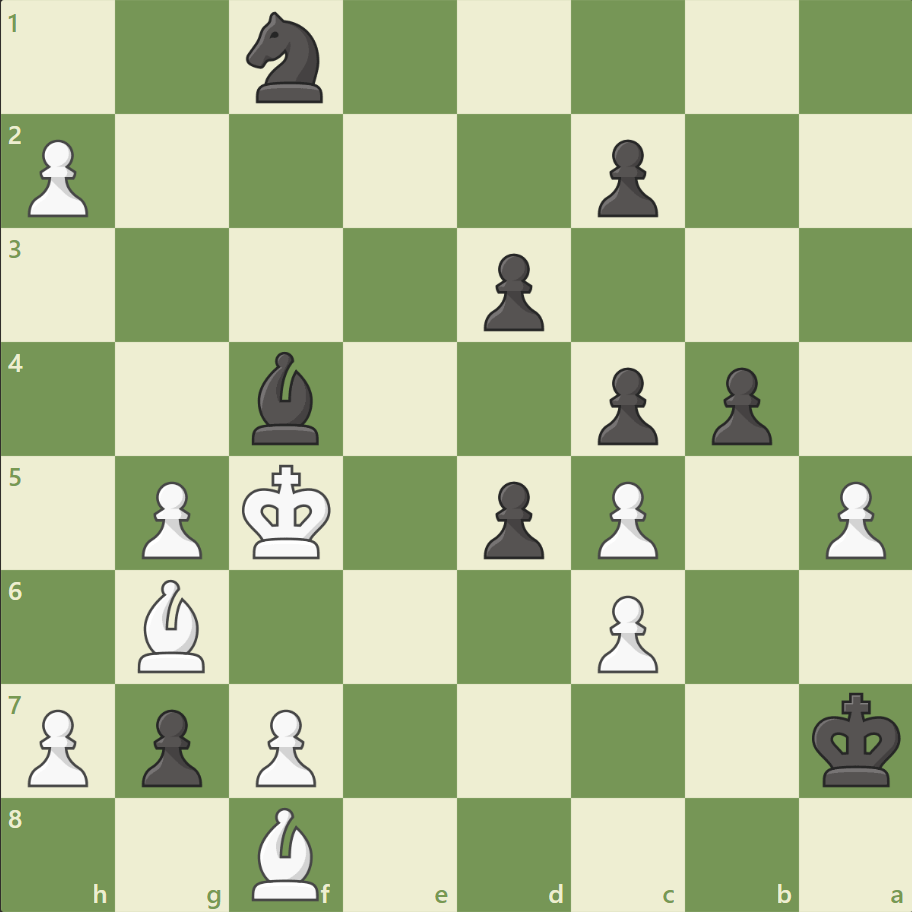B: (244, 801, 328, 904), (131, 574, 215, 676)
K: (238, 458, 338, 566)
P: (247, 700, 322, 791), (20, 700, 95, 791), (133, 473, 208, 564), (20, 132, 95, 223), (588, 586, 662, 677), (815, 473, 889, 564), (588, 473, 662, 564)
b: (244, 347, 328, 449)
k: (806, 685, 906, 793)
n: (238, 7, 335, 110)
p: (133, 700, 208, 791), (474, 473, 549, 564), (701, 359, 776, 450), (474, 246, 549, 337), (588, 359, 662, 450), (588, 132, 662, 223)
